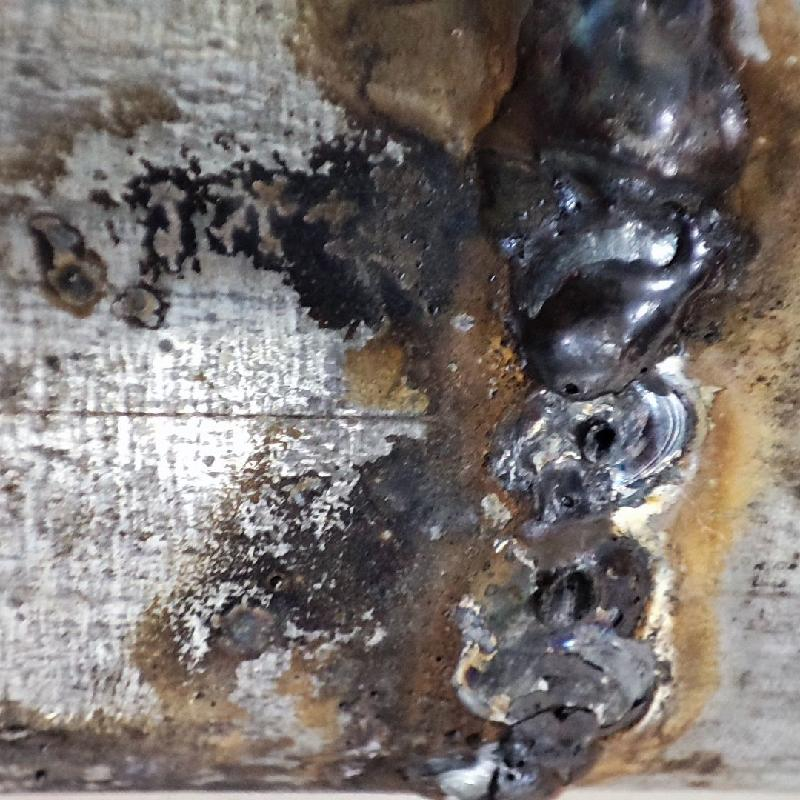Surface_pores: (552, 371, 593, 403)
Weld: (463, 5, 762, 412)
crater: (470, 394, 700, 731)
